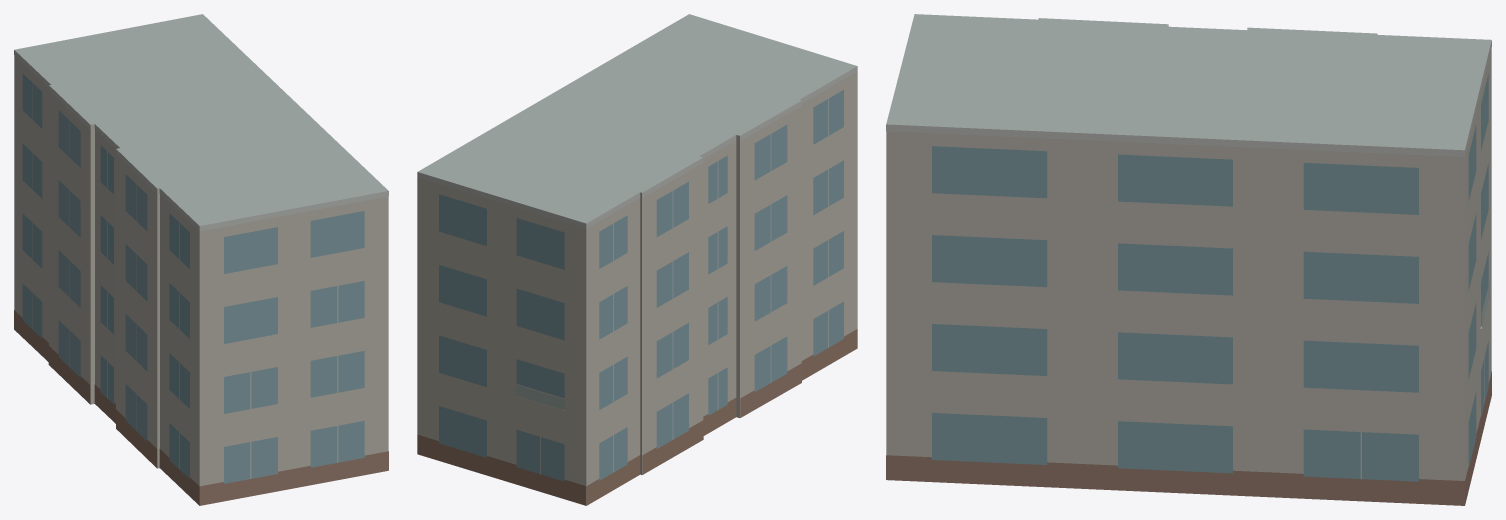
Rendered from survey-upis-32802120.glb.
3 views of the same model, side by side, from view 1: azimuth 30°, elevation 25°; view 2: azimuth 150°, elevation 25°; view 3: azimuth 270°, elevation 25° (orthographic). The views are drawn at different scales.
Parts seen in each view (by area): view 1: survey-upis-32802120.tmp; view 2: survey-upis-32802120.tmp; view 3: survey-upis-32802120.tmp.
Part boxes in pixels (<box>): survey-upis-32802120.tmp: <box>14,14,388,505</box>; survey-upis-32802120.tmp: <box>417,14,857,505</box>; survey-upis-32802120.tmp: <box>886,14,1491,505</box>.
Size of the model in its own units: 10.53 by 12.8 by 19.77.
